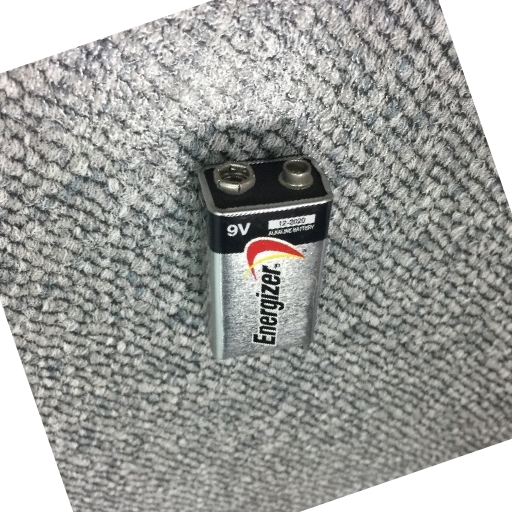Battery_3: (191, 148, 349, 373)
